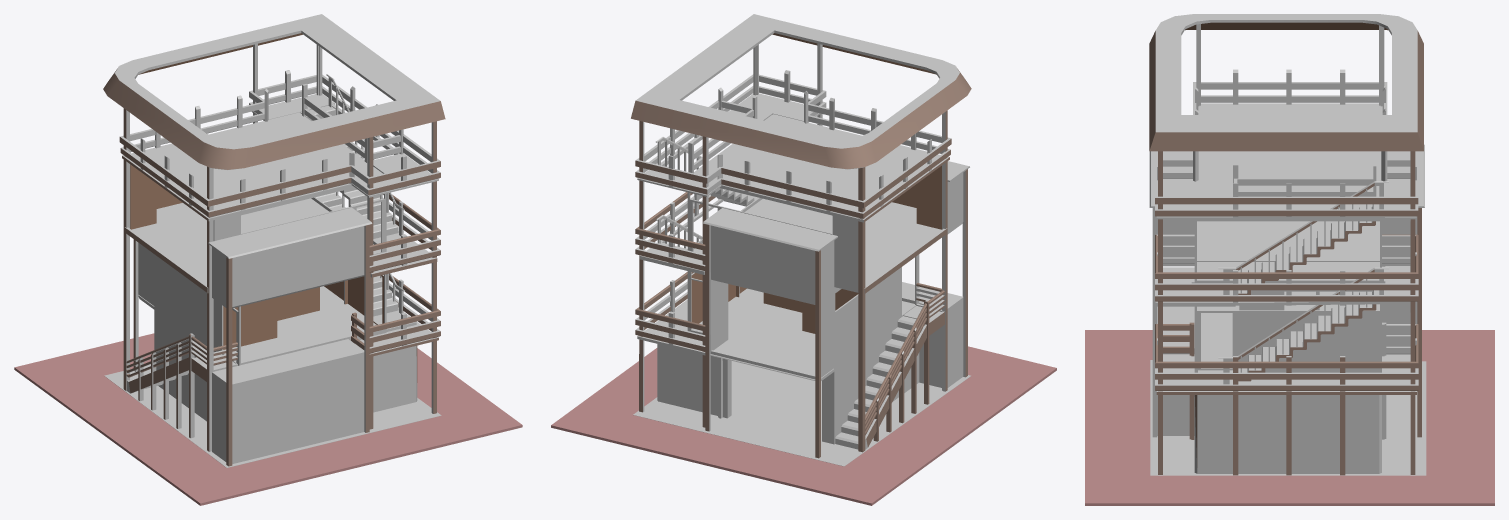
Rendered from house tower WIP1.fbx.
The picture shows the model from 3 angles, left to right: view 1: azimuth 30°, elevation 25°; view 2: azimuth 150°, elevation 25°; view 3: azimuth 270°, elevation 25°; orthographic projection. The views are drawn at different scales.
Visible parts, largest first — view 1: Cube.004, pCube1; view 2: Cube.004, pCube1; view 3: Cube.004, pCube1.
Boxes of the visible parts, x1,y1,x2,y2 form: Cube.004: [103, 14, 445, 467]; pCube1: [14, 333, 522, 505]; Cube.004: [631, 14, 971, 466]; pCube1: [551, 346, 1056, 505]; Cube.004: [1149, 14, 1426, 475]; pCube1: [1085, 330, 1494, 505].
Bounding box in the file's own units: 5159 × 4821 × 5159.
